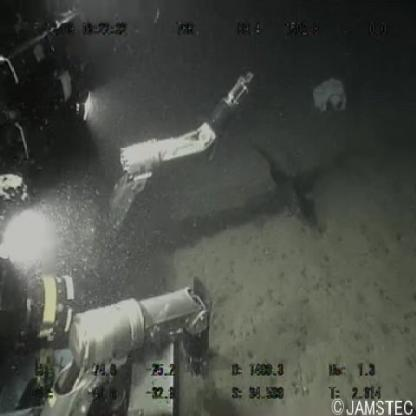Bio: (252, 142, 324, 243)
Rov: (1, 1, 269, 416)
Rác: (309, 75, 350, 115)
